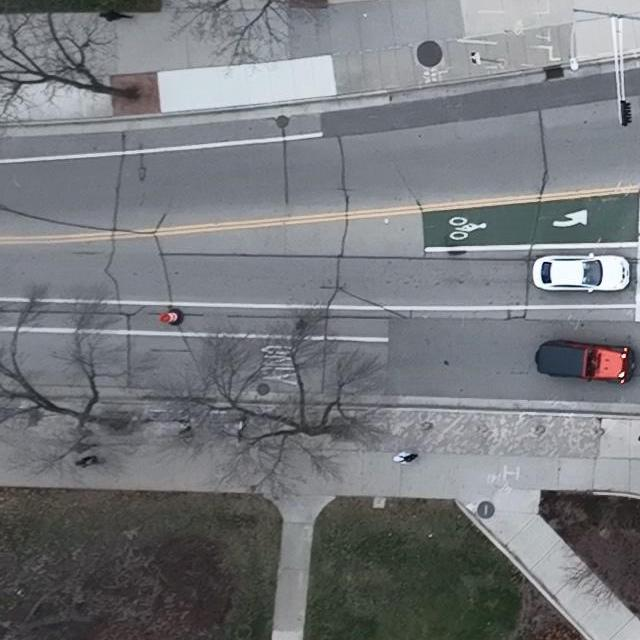car: (535, 338, 638, 384), (533, 250, 632, 294)
